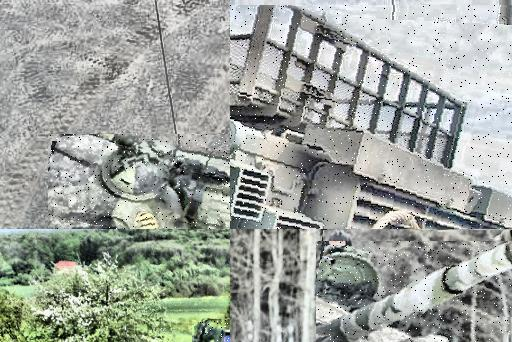tanks: (231, 6, 512, 230), (317, 243, 512, 342), (50, 136, 231, 230), (509, 286, 512, 297)
